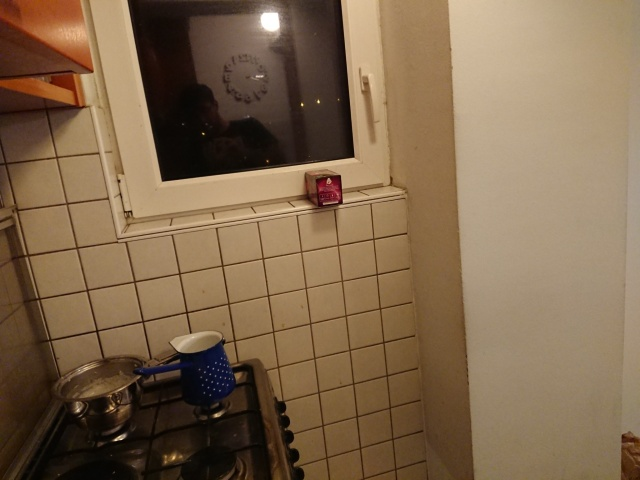Franck Black Currant Tea 60g: (302, 167, 345, 210)
